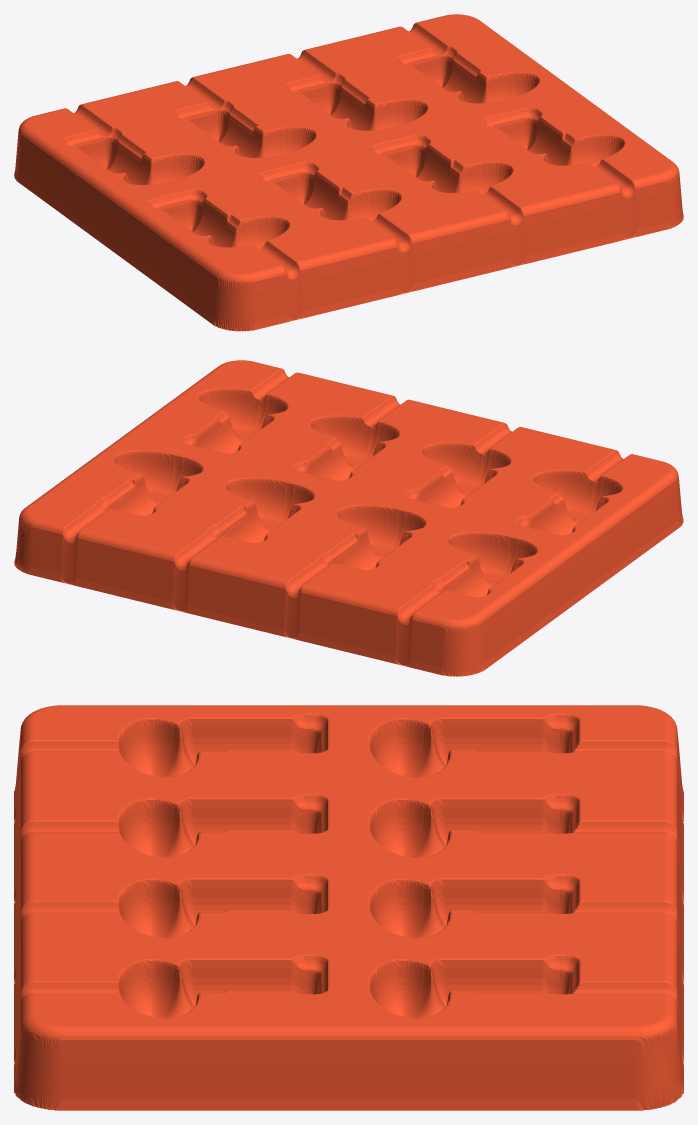
Rendered from mold.glb.
3 renders of one model, top to bottom at view 1: azimuth 30°, elevation 25°; view 2: azimuth 150°, elevation 25°; view 3: azimuth 270°, elevation 25°, orthographic. The views are drawn at different scales.
Parts seen in each view (by area): view 1: geometry_0; view 2: geometry_0; view 3: geometry_0.
Boxes of the visible parts, x1,y1,x2,y2 form: geometry_0: (14,14,683,331); geometry_0: (14,360,683,676); geometry_0: (14,705,683,1110).
Size of the model in its own units: 0.1459 by 0.0155 by 0.1229.
